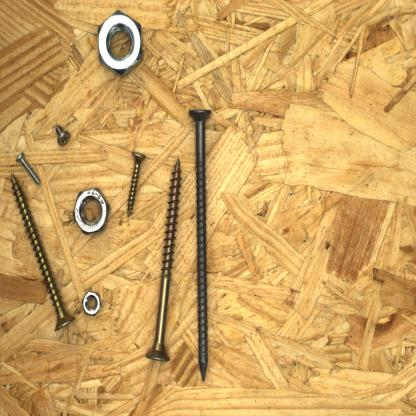screw: (6, 167, 78, 334), (143, 154, 183, 370), (187, 92, 213, 388), (124, 148, 150, 220), (14, 149, 45, 190), (53, 121, 76, 151)
